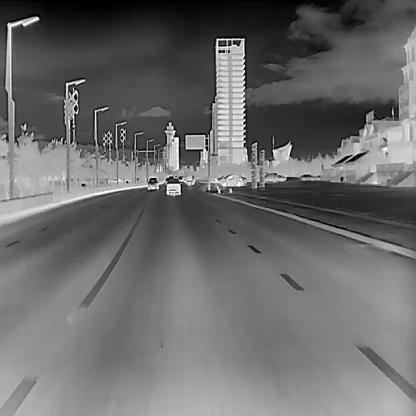car: (218, 172, 242, 186), (165, 178, 182, 195), (146, 176, 159, 190), (300, 173, 315, 180)
